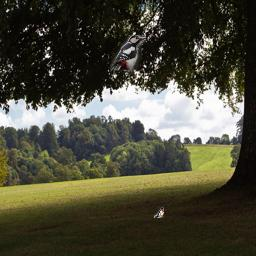Swallow: (154, 207, 164, 218)
Woodpecker: (110, 35, 146, 75)
